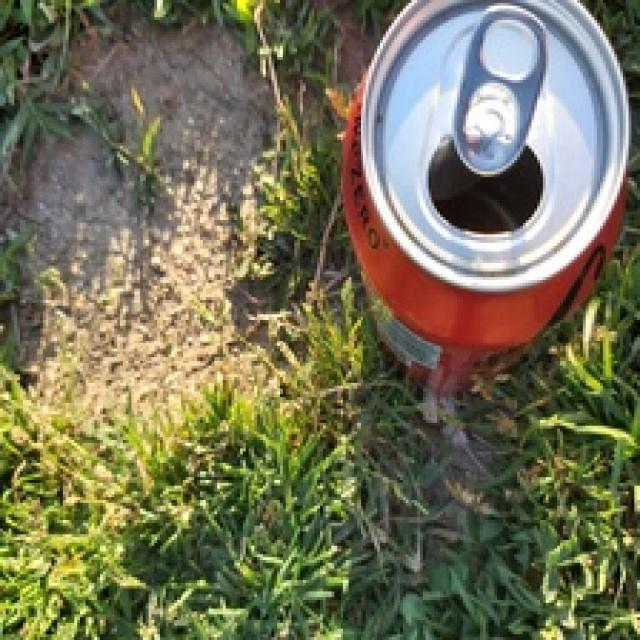recyclable: (339, 0, 632, 397)
